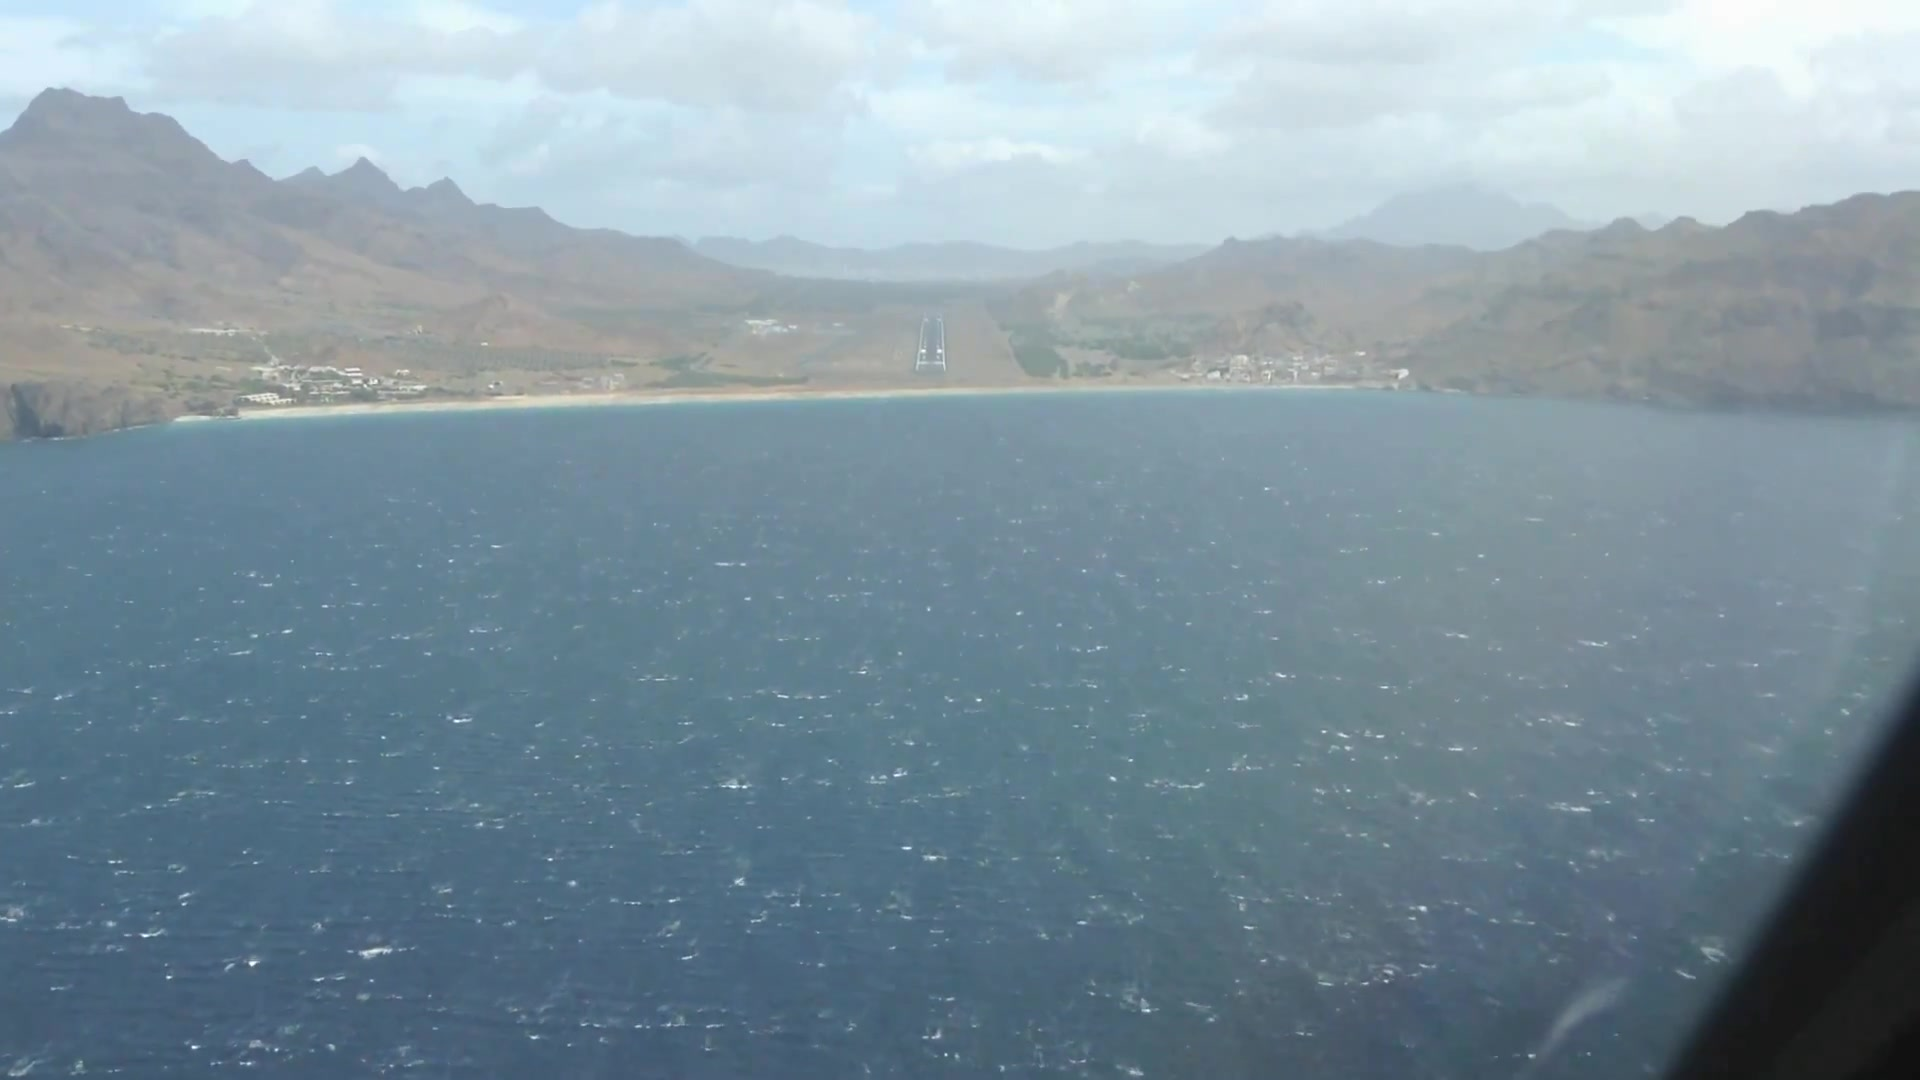runway: (914, 310, 947, 375)
